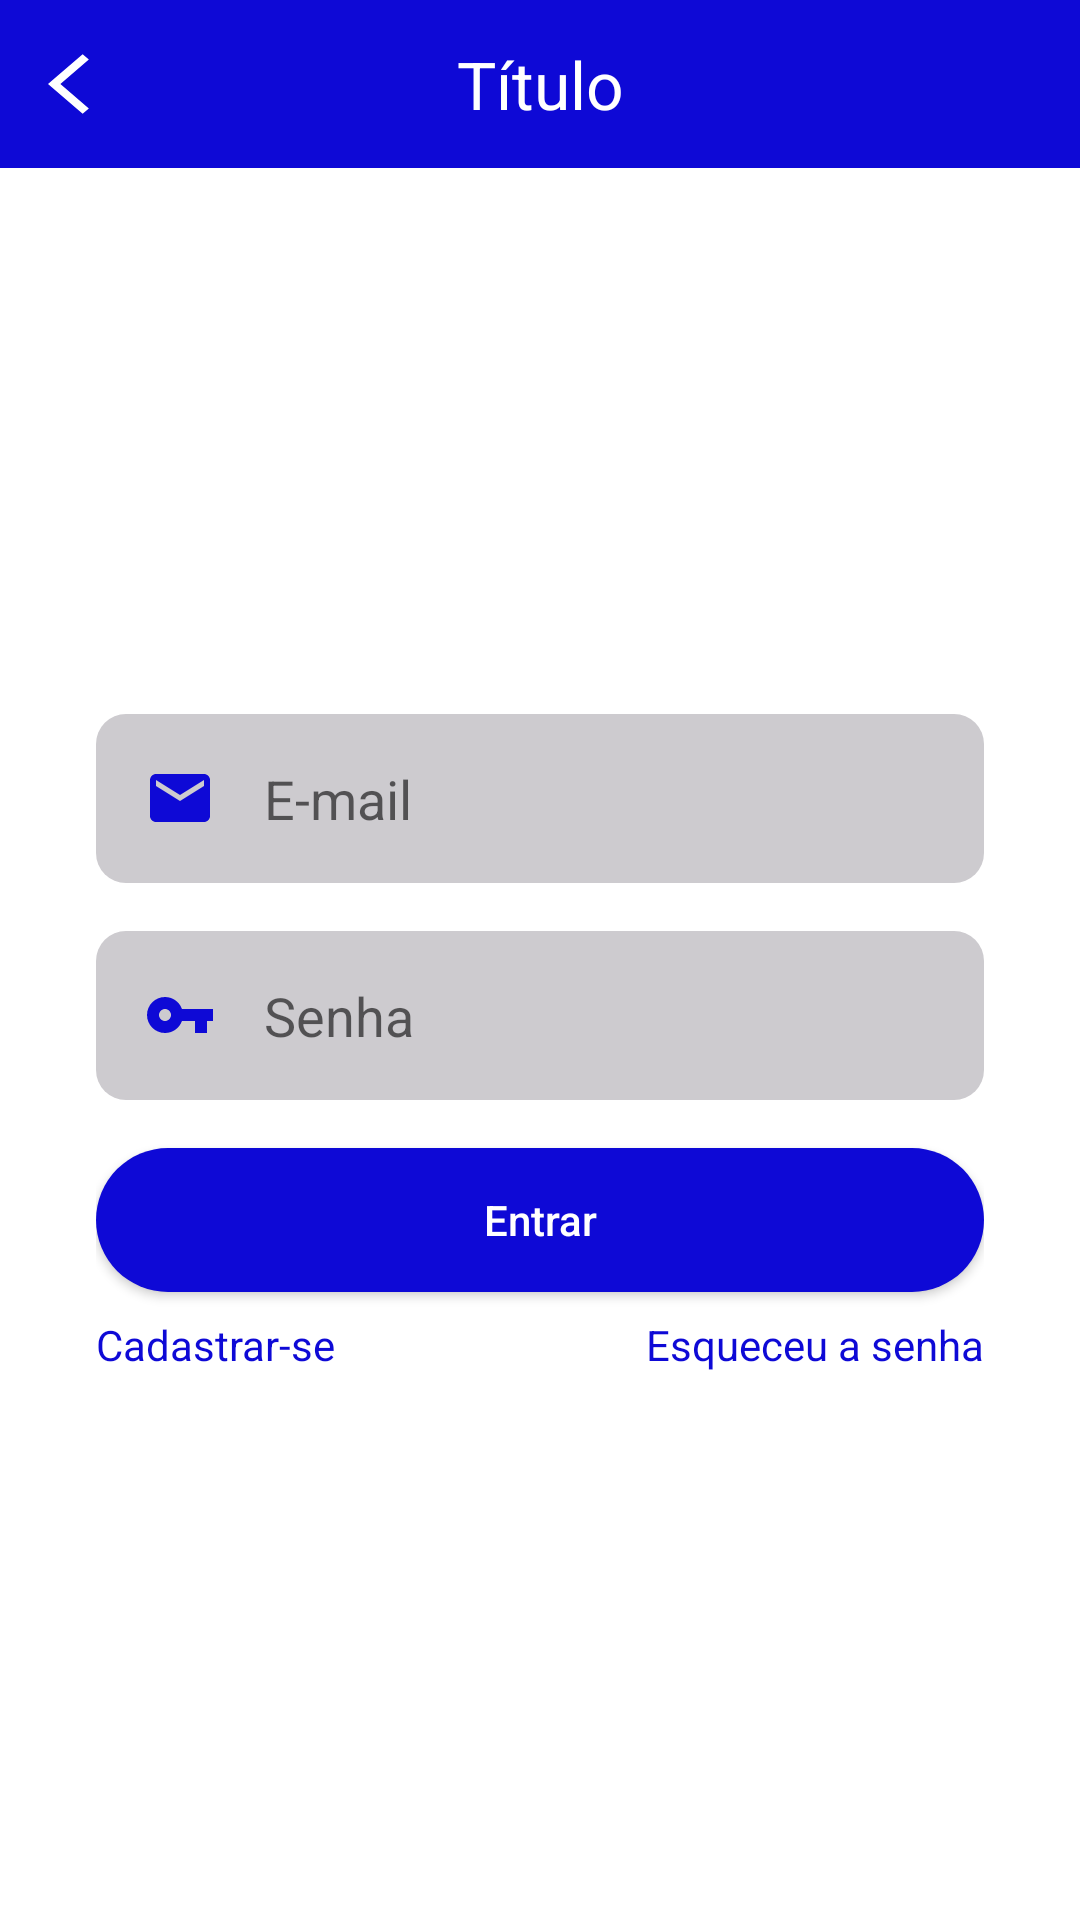

Named icons in this screenshot (1080×1920) and their bounding boxes, rect(x1, y1, x2, y2):
voltar: rect(48, 54, 89, 114)
